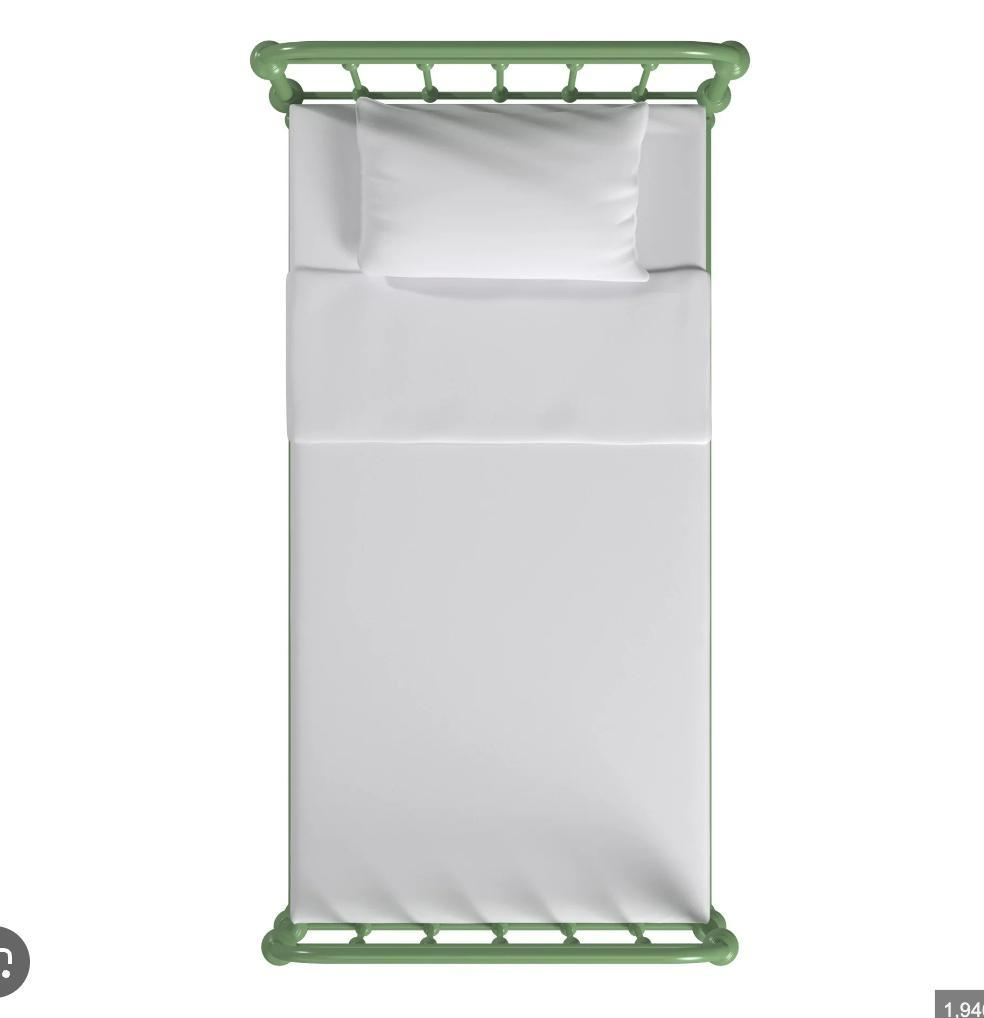Bed-Mattress: (248, 28, 761, 978)
